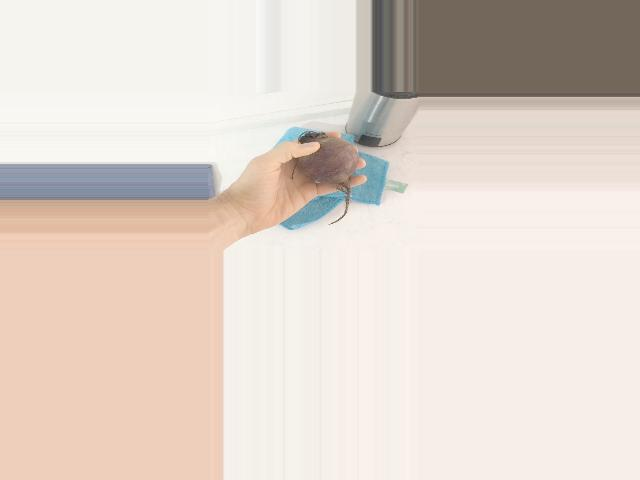beet: (292, 131, 358, 225)
